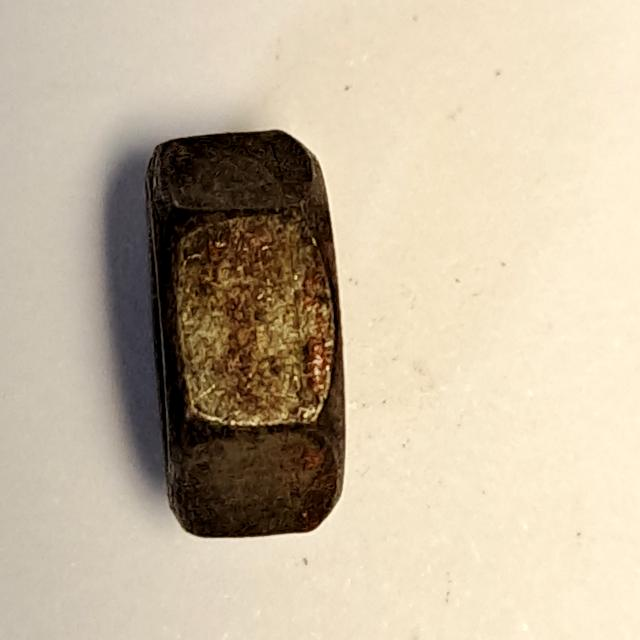Side_Rust: (134, 117, 363, 551)
